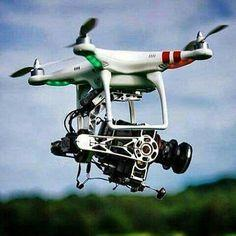drone: (19, 18, 227, 118)
